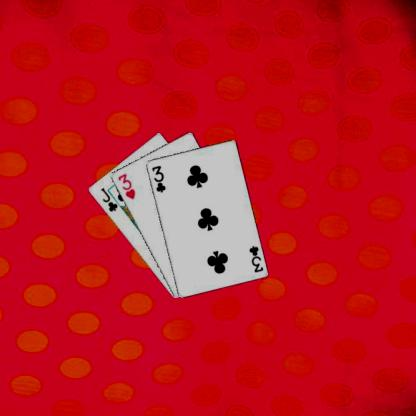3C: (148, 162, 166, 193), (246, 243, 264, 274)
3H: (115, 171, 136, 200)
JC: (98, 185, 119, 213)
